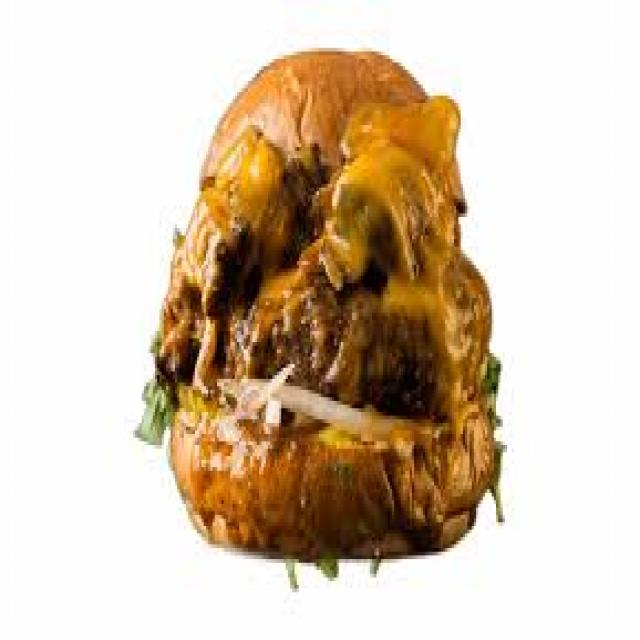organic waste: (130, 44, 502, 581), (222, 287, 429, 419), (190, 125, 310, 313), (148, 210, 240, 390), (336, 85, 458, 195), (317, 154, 414, 290), (429, 254, 492, 430), (408, 192, 465, 306)
